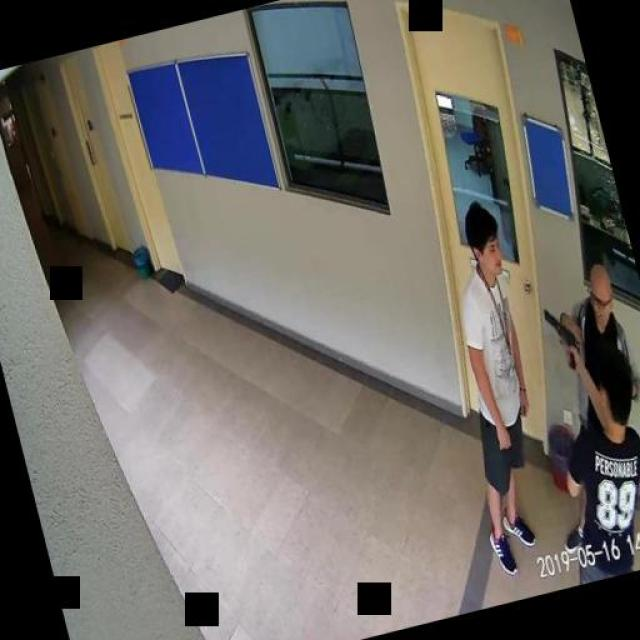gun: (542, 304, 582, 374)
